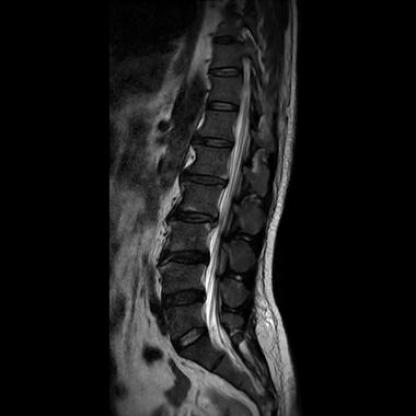Annular Tearrotation: (163, 287, 206, 311)
Disc Bulgerotation: (158, 246, 211, 270), (172, 205, 220, 231), (163, 287, 206, 311)
Disc Protrusionrotation: (181, 170, 232, 189)
